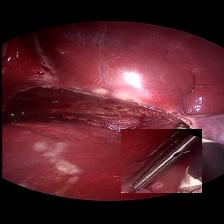Grasper: (120, 130, 201, 193)
Hook: (152, 115, 218, 155)
